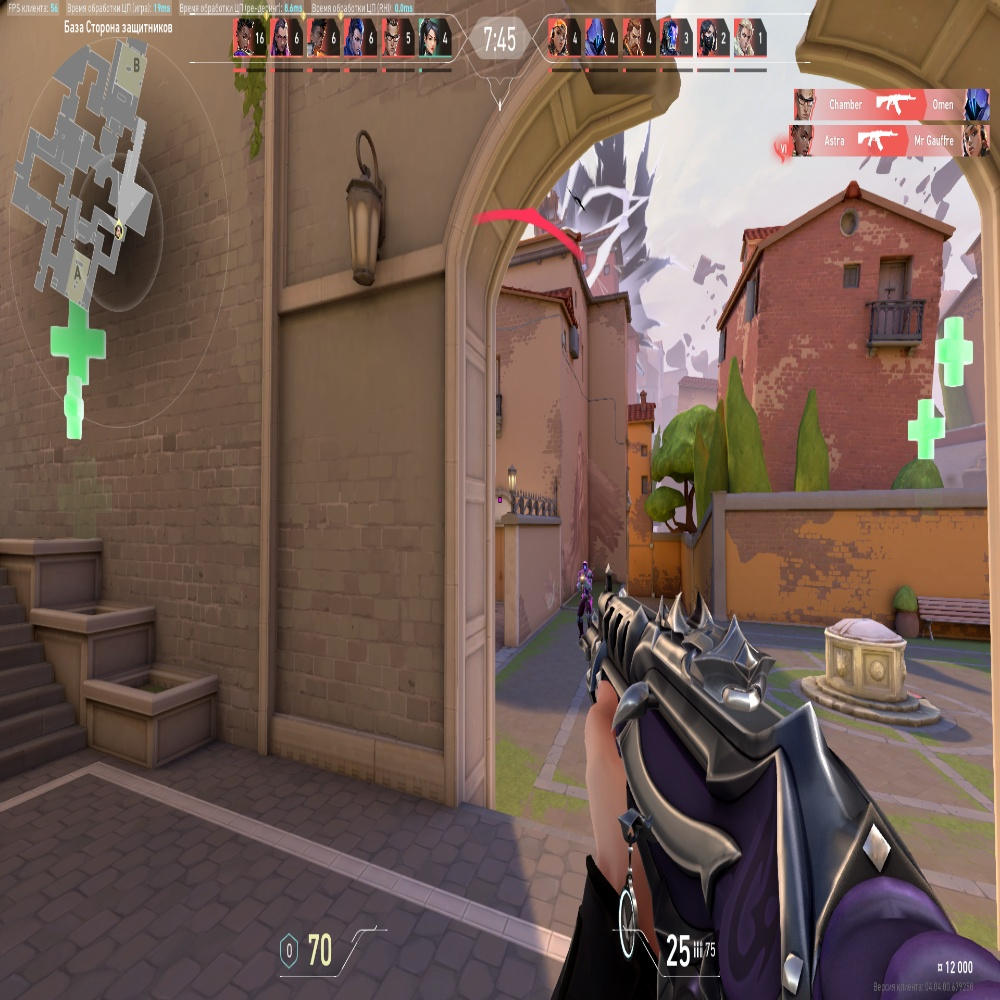body: (578, 572, 592, 600)
head: (582, 562, 588, 571)
